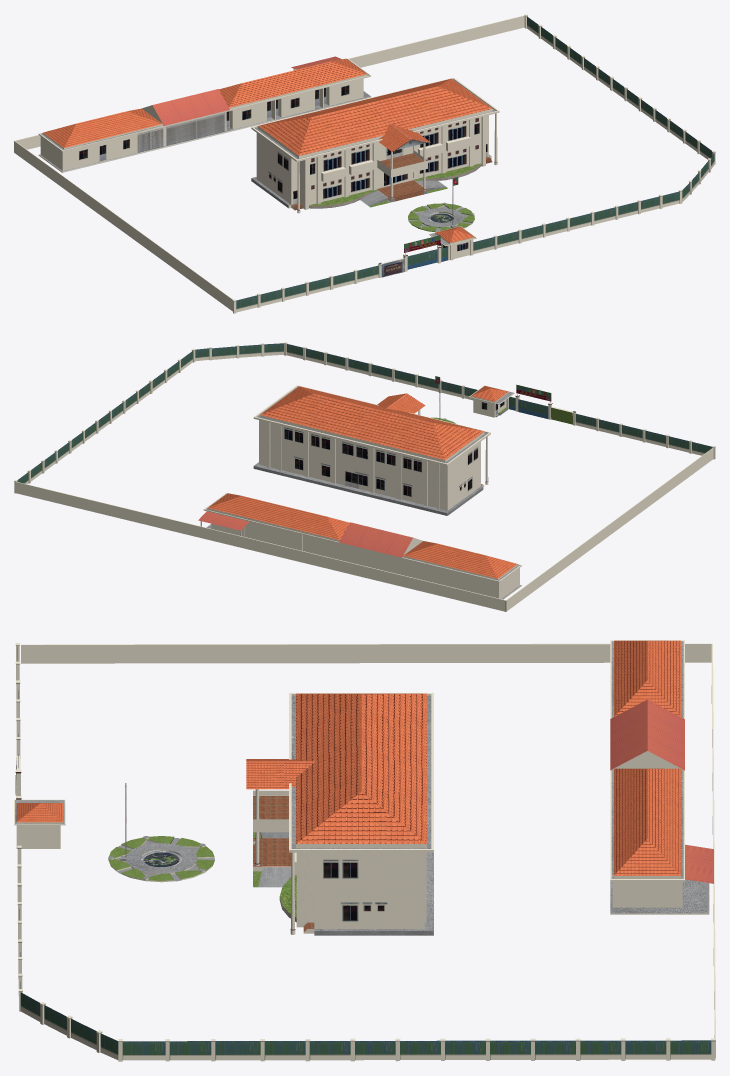
Rendered from Ban Dan Van Thi Xa Dong Xoai.glb.
The picture shows the model from 3 angles, top to bottom: view 1: azimuth 30°, elevation 25°; view 2: azimuth 150°, elevation 25°; view 3: azimuth 270°, elevation 25°; orthographic projection. The views are drawn at different scales.
Visible parts, largest first — view 1: BPH058 nha chinh 1024, BPH058 cong tuong 1024, BPH058 cong trinh phu 1024, BPH058 cong tuong 1024.001; view 2: BPH058 nha chinh 1024, BPH058 cong tuong 1024, BPH058 cong trinh phu 1024; view 3: BPH058 nha chinh 1024, BPH058 cong tuong 1024, BPH058 cong trinh phu 1024, BPH058 cong tuong 1024.001.
Part boxes in pixels (x1,y1,x2,y2): BPH058 nha chinh 1024: (251, 77, 499, 213); BPH058 cong tuong 1024: (14, 14, 715, 313); BPH058 cong trinh phu 1024: (38, 56, 371, 172); BPH058 cong tuong 1024.001: (408, 177, 474, 232); BPH058 nha chinh 1024: (253, 385, 490, 515); BPH058 cong tuong 1024: (14, 342, 715, 611); BPH058 cong trinh phu 1024: (198, 493, 521, 599); BPH058 nha chinh 1024: (246, 693, 433, 935); BPH058 cong tuong 1024: (14, 643, 715, 1061); BPH058 cong trinh phu 1024: (610, 640, 713, 914); BPH058 cong tuong 1024.001: (108, 783, 214, 882).
Size of the model in its own units: 82.37 by 10.94 by 61.3.
Materials: 3 (3 with a texture image).
